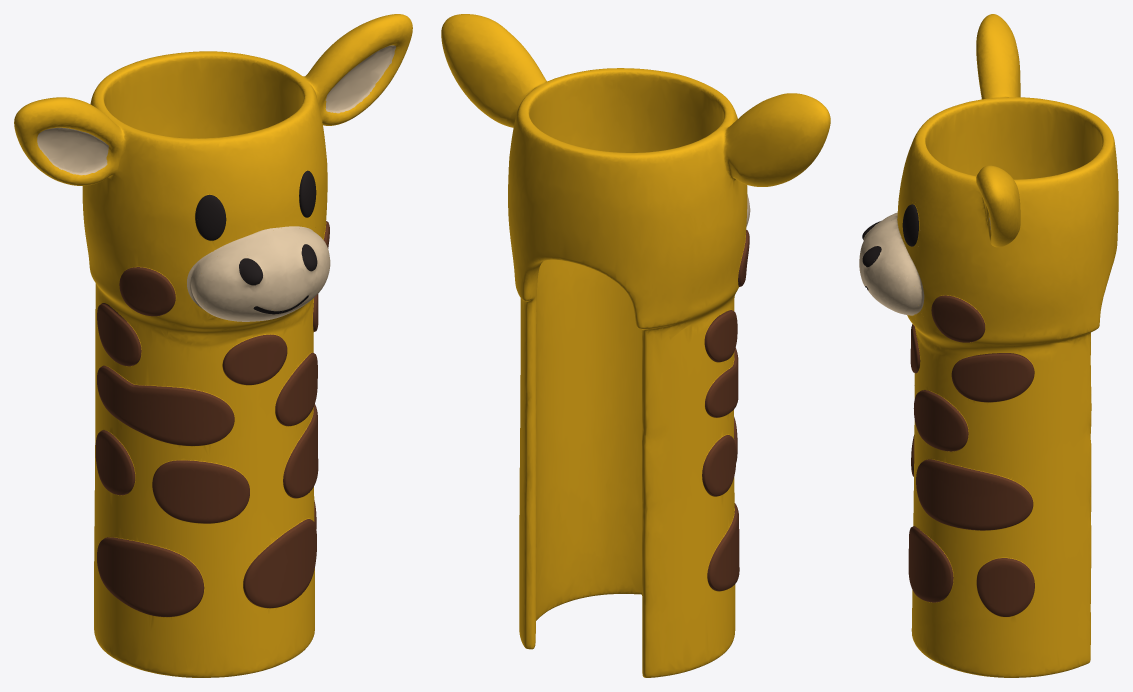
Rendered from girafoscopio.glb.
3 renders of one model, left to right at view 1: azimuth 30°, elevation 25°; view 2: azimuth 150°, elevation 25°; view 3: azimuth 270°, elevation 25°, orthographic. The views are drawn at different scales.
Visible parts, largest first — view 1: girafoscopio; view 2: girafoscopio; view 3: girafoscopio.
Part boxes in pixels (bbox=[...]): girafoscopio: bbox=[14, 14, 412, 677]; girafoscopio: bbox=[441, 14, 830, 677]; girafoscopio: bbox=[859, 14, 1118, 677].
Bounding box in the file's own units: 1.3 × 1.84 × 0.7988.
